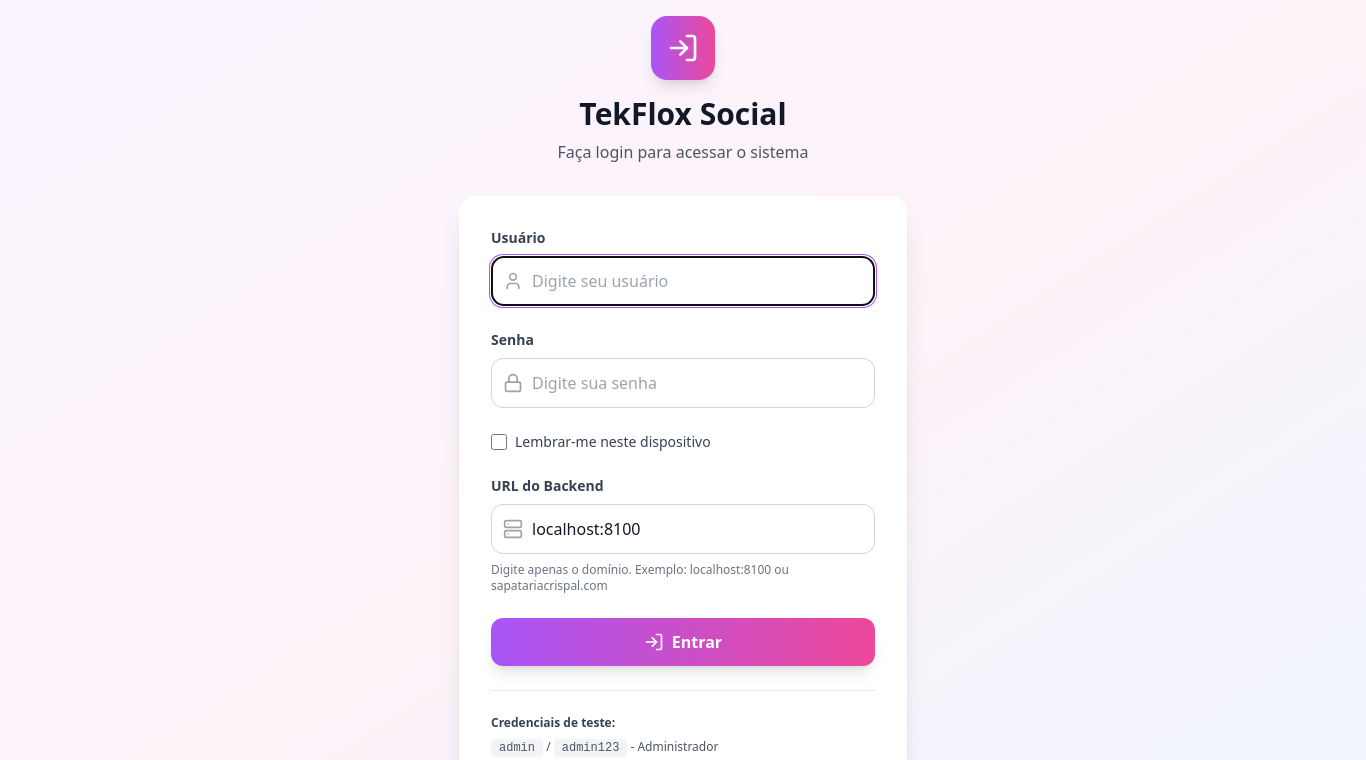
Test case: Login › deve mostrar loading durante login
The width and height of the screenshot is (1366, 760).
Type "admin" into the field labelled "Usuário" at {"x": 683, "y": 281}, box [491,256,875,306]
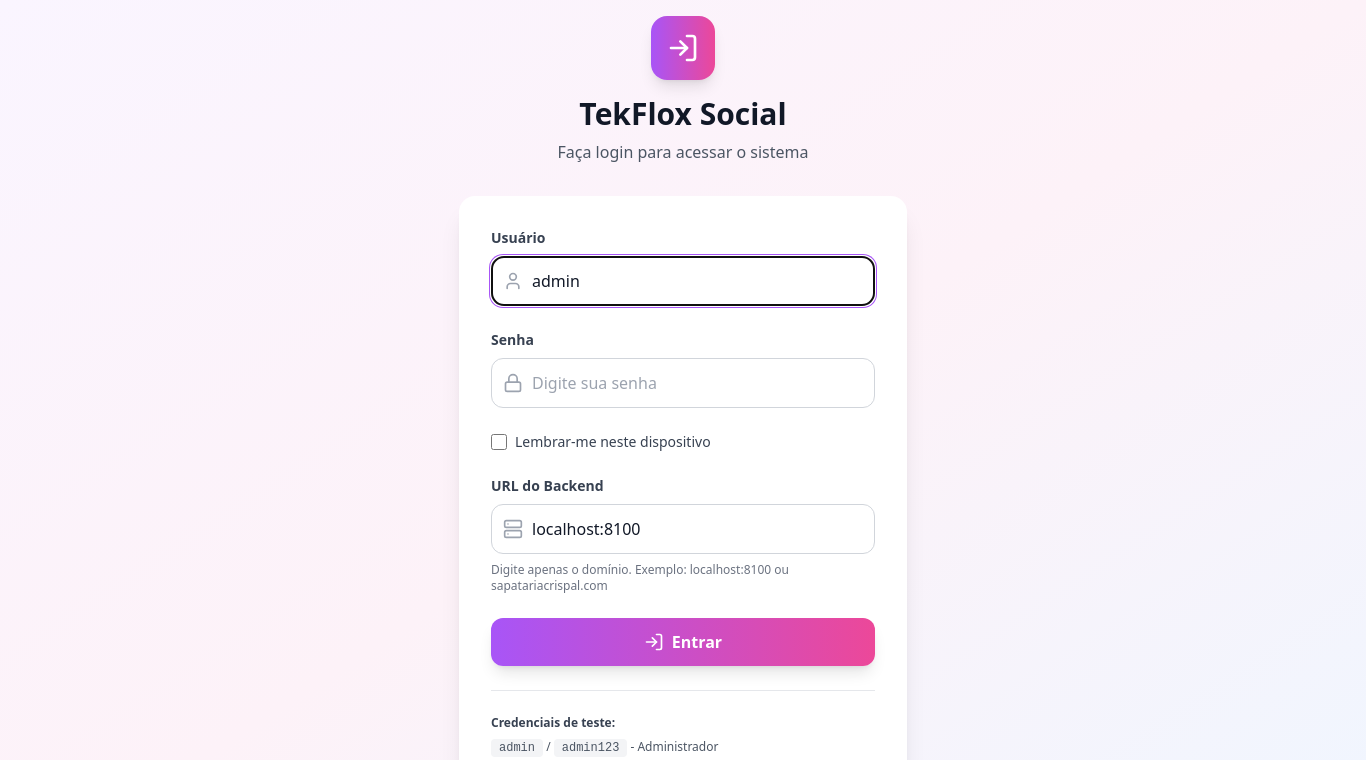
Type "admin123" into the password field labelled "Senha" at {"x": 683, "y": 383}, box [491,358,875,408]
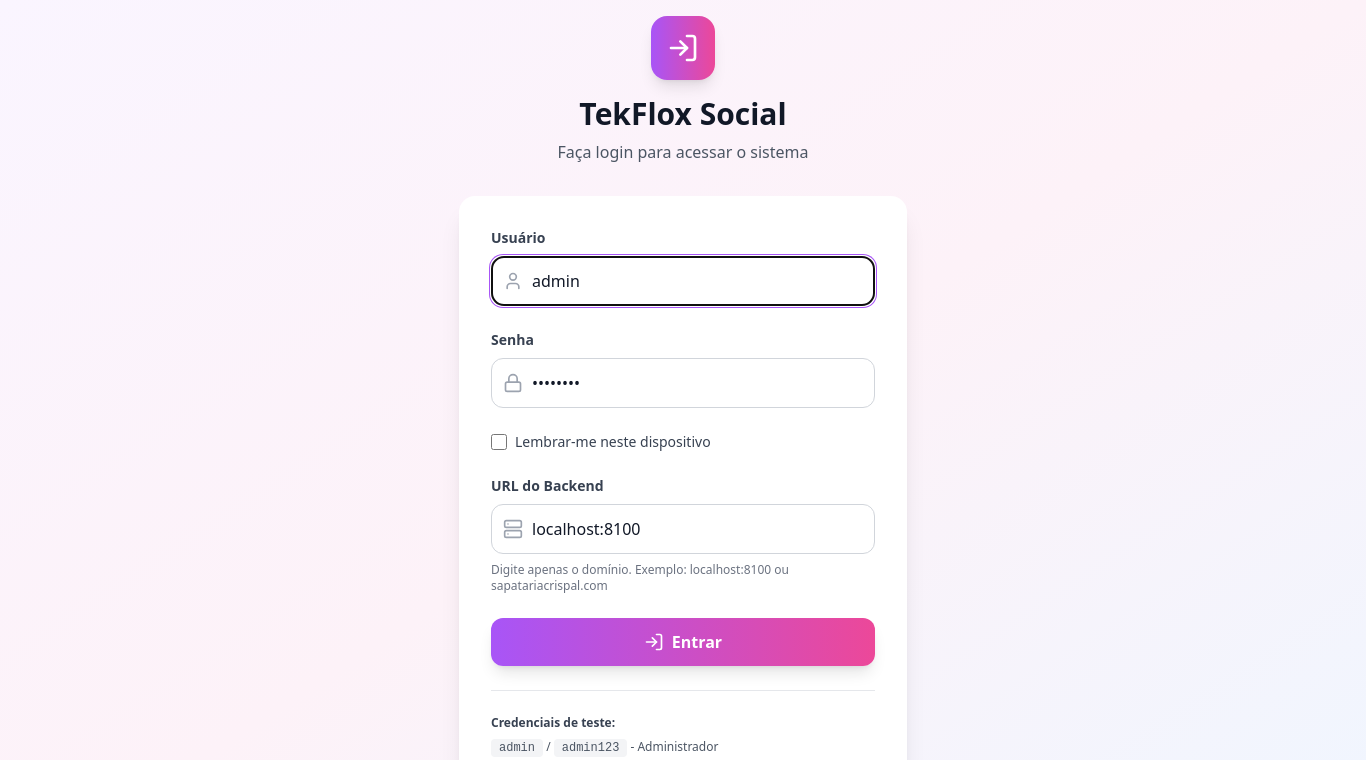
Click the button "Entrar" at {"x": 683, "y": 642}, box [491,618,875,666]
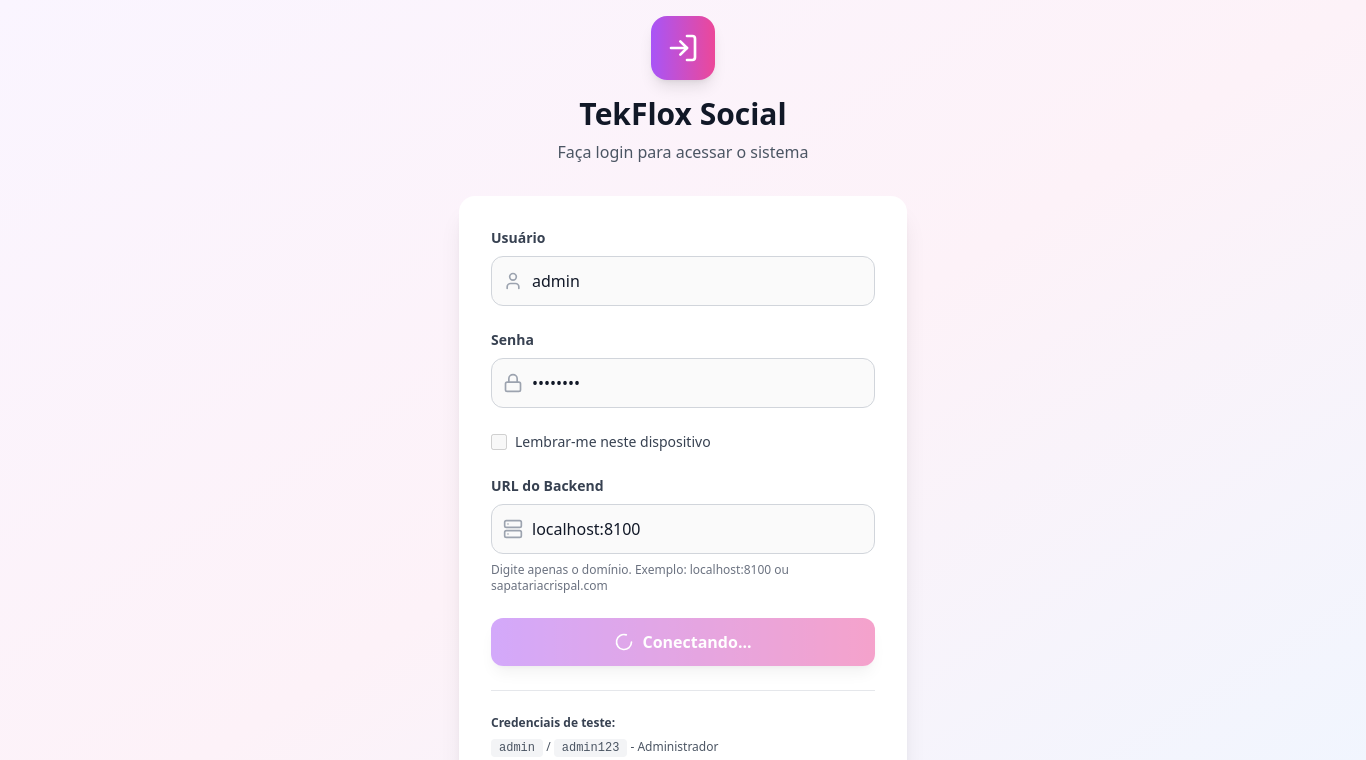
Now the text "Conectando..." is shown, box [642,630,752,654]
